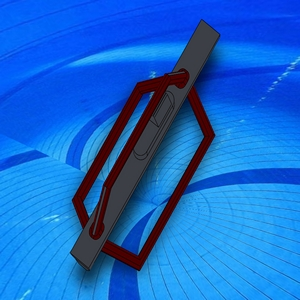submarine: (70, 18, 233, 274)
